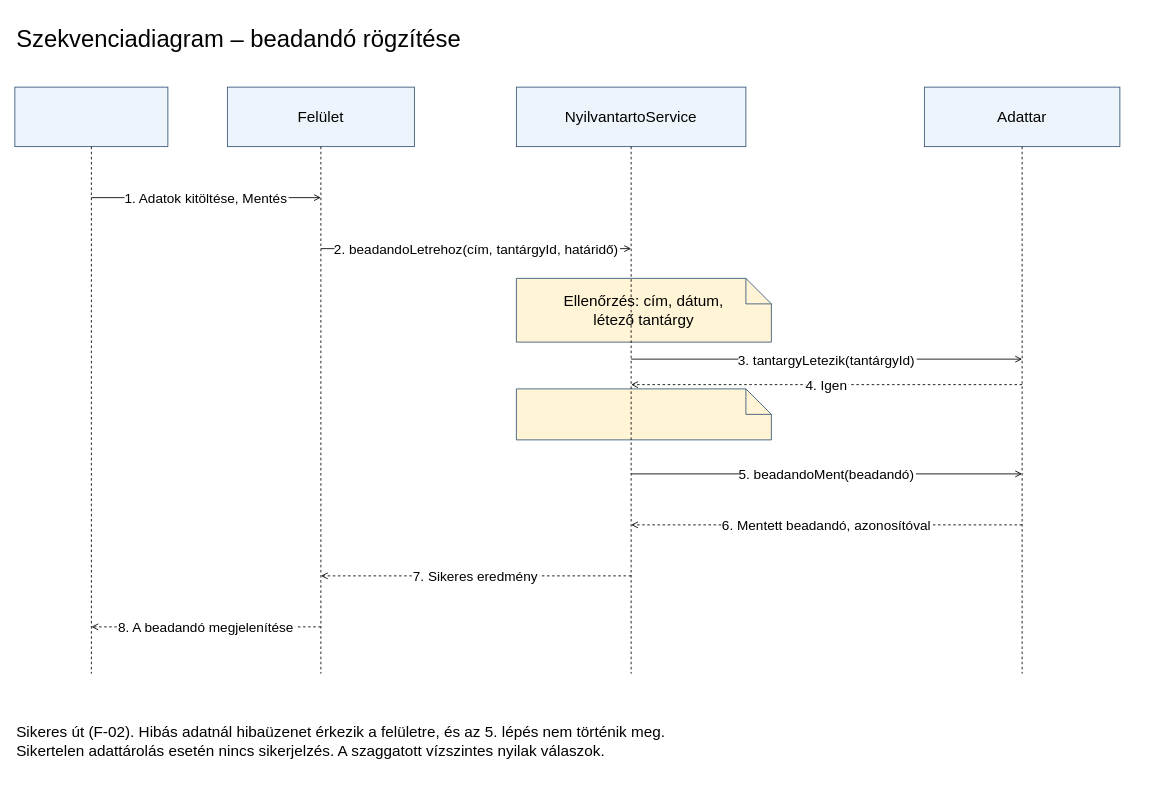
Some shapes in this 1169 by 790 pixel diagram are drawn without their labels. Each missing label, with the box of its shape:
Hallgató: (14, 86, 168, 147)
Kezdőállapot: Nincs kész: (516, 388, 771, 440)
